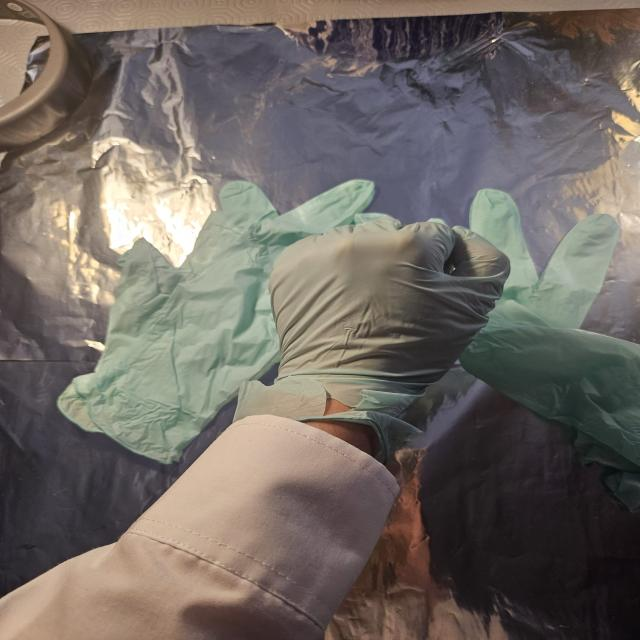gloves_damaged: (230, 218, 516, 471)
